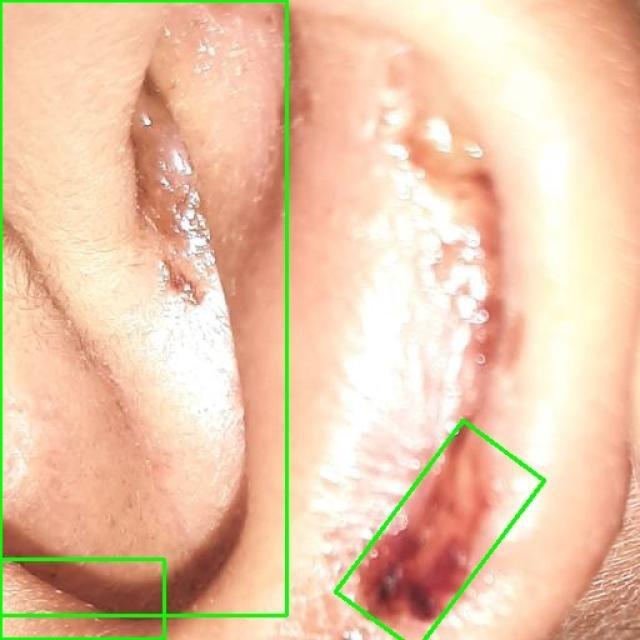Eczema: (0, 0, 288, 616), (335, 421, 544, 640), (0, 559, 164, 639)
